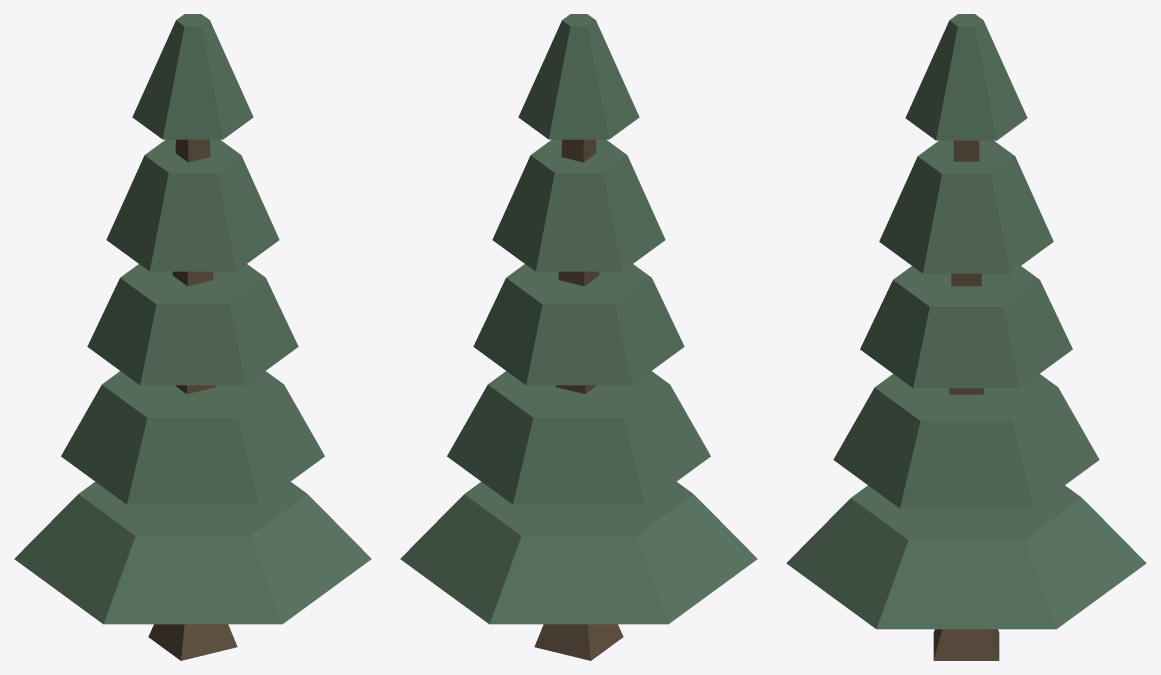
File: tree_pineRoundA.glb
3 views of the same model, side by side, from view 1: azimuth 30°, elevation 25°; view 2: azimuth 150°, elevation 25°; view 3: azimuth 270°, elevation 25° (orthographic).
Visible parts, largest first — view 1: tree_pineRoundA; view 2: tree_pineRoundA; view 3: tree_pineRoundA.
Part boxes in pixels (x1=…): tree_pineRoundA: x1=14, y1=14, x2=371, y2=660; tree_pineRoundA: x1=400, y1=14, x2=757, y2=660; tree_pineRoundA: x1=786, y1=14, x2=1146, y2=660.
Bounding box in the file's own units: 0.617 × 1.37 × 0.7125.
